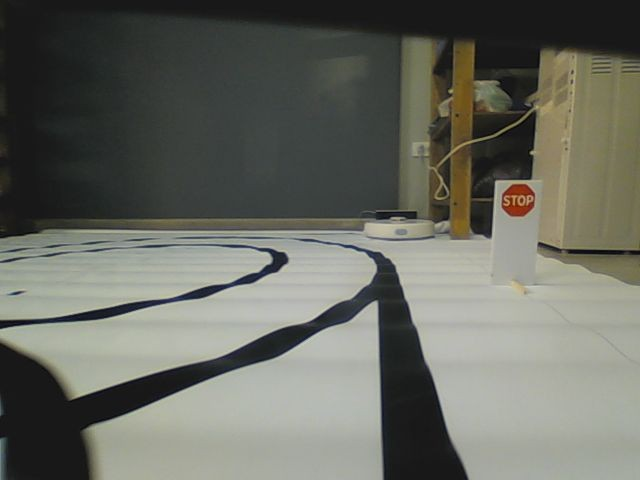Stop: (500, 182, 539, 219)
